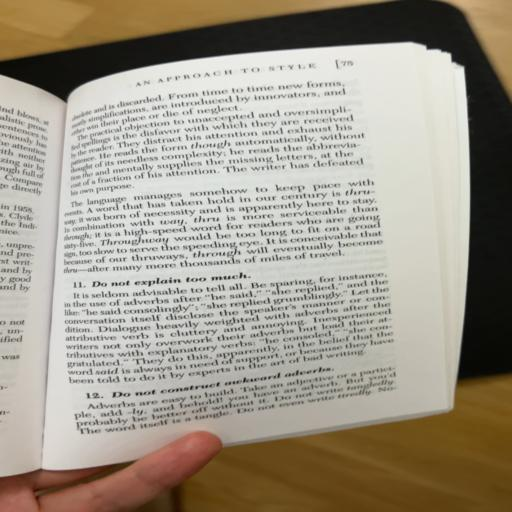paper: (44, 65, 512, 438)
